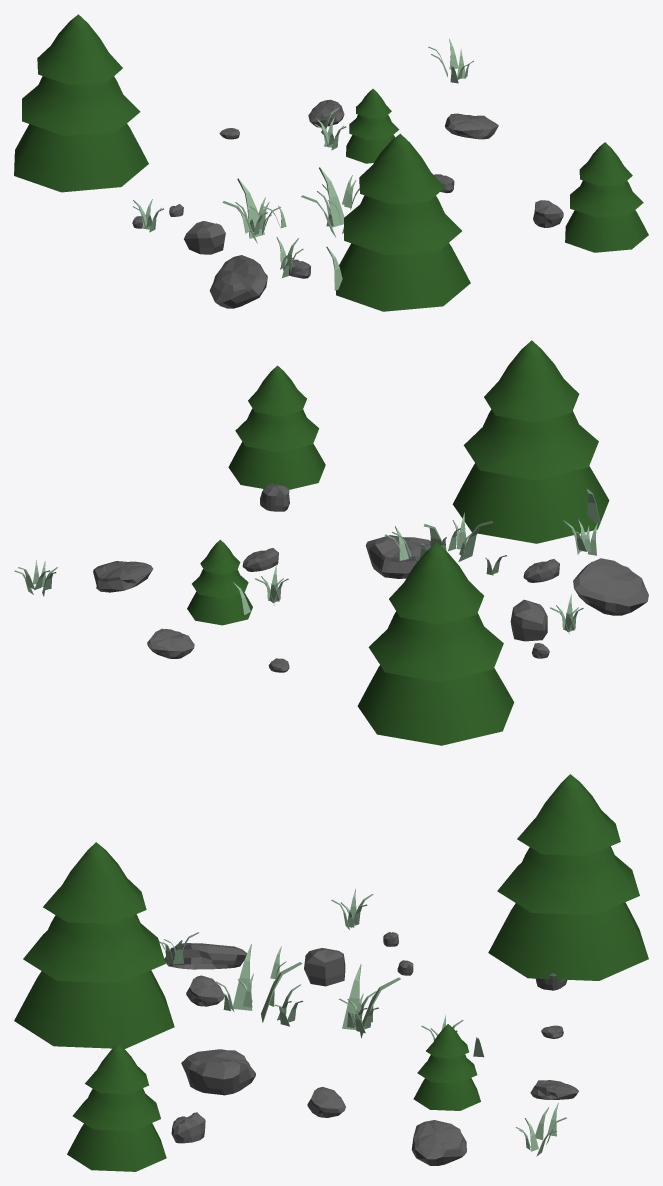
The model's file is GrassFoliage_03.FBX.
3 renders of one model, top to bottom at view 1: azimuth 30°, elevation 25°; view 2: azimuth 150°, elevation 25°; view 3: azimuth 270°, elevation 25°, orthographic. The views are drawn at different scales.
Parts seen in each view (by area): view 1: nurbsToPoly6; view 2: nurbsToPoly6; view 3: nurbsToPoly6.
Part boxes in pixels (x1,y1,x2,y2): nurbsToPoly6: [14, 14, 648, 311]; nurbsToPoly6: [14, 340, 648, 745]; nurbsToPoly6: [14, 774, 648, 1171].
Size of the model in its own units: 385 by 150 by 413.
